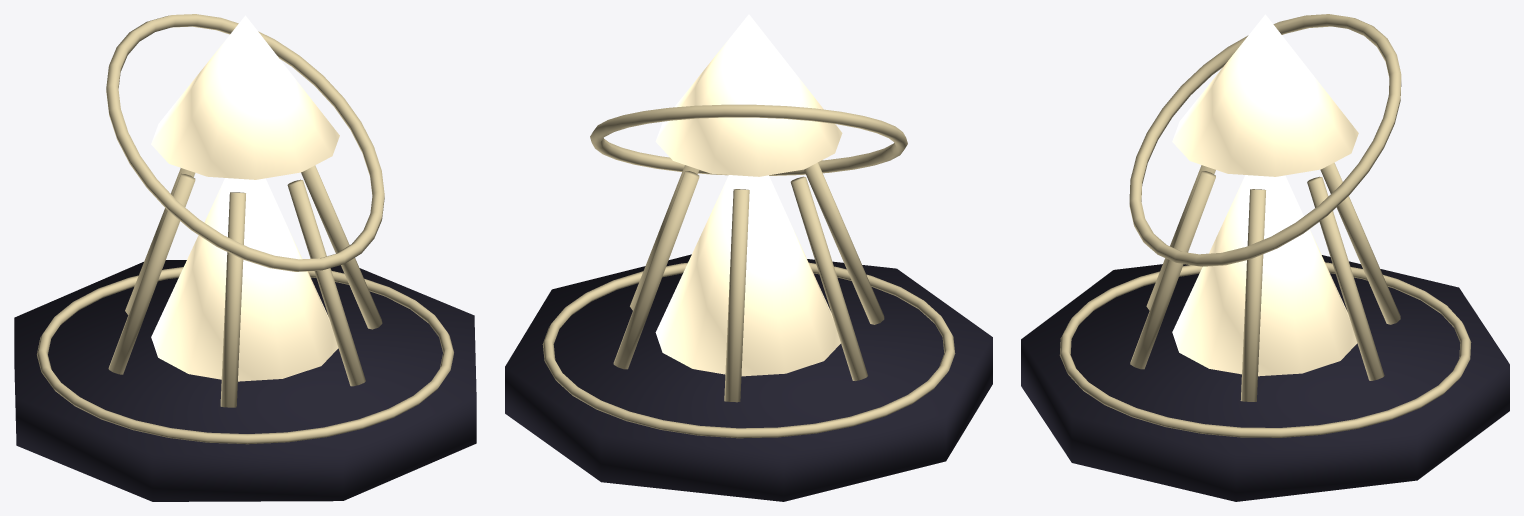
3 renders of one model, left to right at view 1: azimuth 30°, elevation 25°; view 2: azimuth 150°, elevation 25°; view 3: azimuth 270°, elevation 25°, orthographic.
Parts seen in each view (by area): view 1: Hexagonal plinth, Lower crystal, Upper crystal, Orbit, Inlaid rim, Brass setting.005, Brass setting.004, Brass setting.003, Brass setting, Brass setting.002; view 2: Hexagonal plinth, Lower crystal, Upper crystal, Inlaid rim, Orbit, Brass setting.002, Brass setting.003, Brass setting.001, Brass setting.004, Brass setting; view 3: Hexagonal plinth, Lower crystal, Upper crystal, Orbit, Inlaid rim, Brass setting, Brass setting.001, Brass setting.005, Brass setting.002, Brass setting.004.
Boxes of the visible parts, box(x1,y1,x2,y2) form: Hexagonal plinth: box(14, 260, 476, 501); Lower crystal: box(151, 178, 338, 381); Upper crystal: box(151, 15, 339, 179); Orbit: box(106, 14, 384, 271); Inlaid rim: box(37, 267, 453, 444); Brass setting.005: box(287, 179, 365, 386); Brass setting.004: box(220, 192, 245, 407); Brass setting.003: box(108, 173, 195, 374); Brass setting: box(301, 165, 382, 329); Brass setting.002: box(125, 168, 195, 314); Hexagonal plinth: box(505, 254, 992, 501); Lower crystal: box(655, 175, 840, 376); Upper crystal: box(655, 14, 842, 176); Inlaid rim: box(542, 262, 955, 438); Orbit: box(590, 104, 907, 175); Brass setting.002: box(724, 189, 749, 402); Brass setting.003: box(790, 176, 867, 380); Brass setting.001: box(613, 171, 699, 369); Brass setting.004: box(804, 162, 884, 324); Brass setting: box(630, 165, 699, 310); Hexagonal plinth: box(1021, 255, 1509, 501); Lower crystal: box(1172, 175, 1357, 376); Upper crystal: box(1172, 14, 1358, 176); Orbit: box(1129, 14, 1401, 266); Inlaid rim: box(1059, 262, 1471, 437); Brass setting: box(1240, 189, 1265, 401); Brass setting.001: box(1307, 176, 1384, 380); Brass setting.005: box(1130, 171, 1215, 369); Brass setting.002: box(1320, 162, 1400, 324); Brass setting.004: box(1146, 165, 1215, 310).
Bounding box in the file's own units: 1.51 × 1.31 × 1.51.
